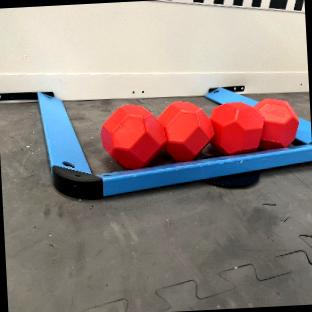Parking - B: (205, 87, 257, 106)
V5_RED: (100, 99, 297, 170), (102, 101, 210, 168), (210, 99, 297, 153)
